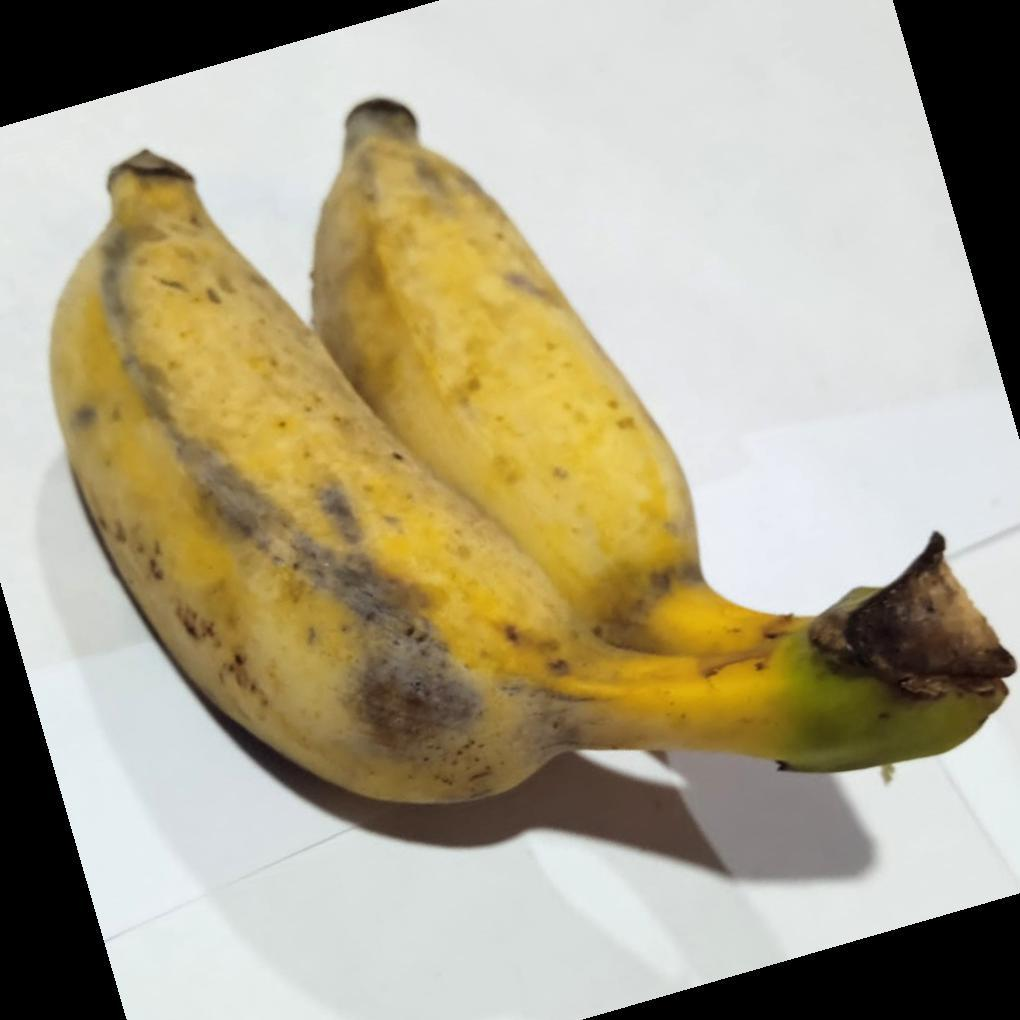Banana Ripe: (42, 131, 1010, 916), (295, 86, 1019, 693)
